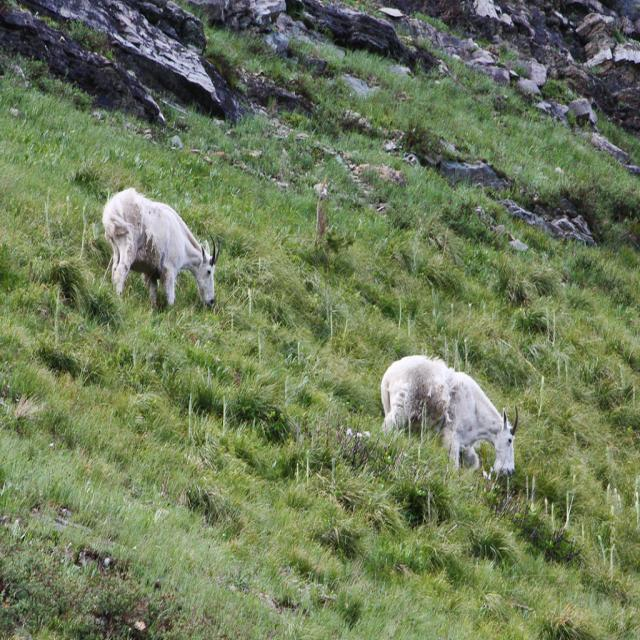Goat: (381, 354, 518, 479), (101, 185, 220, 307)
